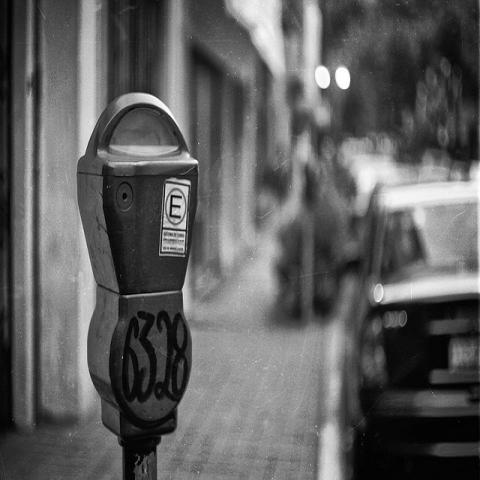car: (340, 181, 480, 466), (344, 151, 422, 255)
